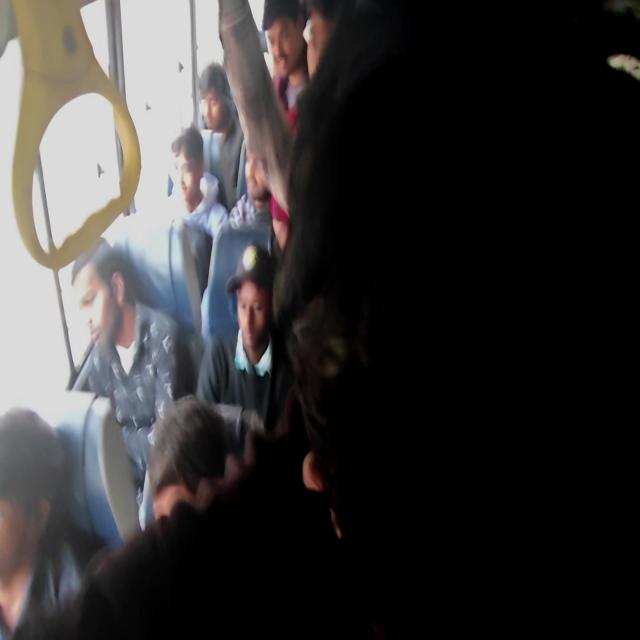person: (318, 48, 640, 640), (0, 419, 89, 613), (69, 220, 133, 393), (237, 260, 285, 383), (154, 446, 208, 546), (179, 68, 222, 145), (307, 17, 350, 91), (172, 142, 202, 218), (238, 123, 264, 178), (269, 10, 291, 56)
